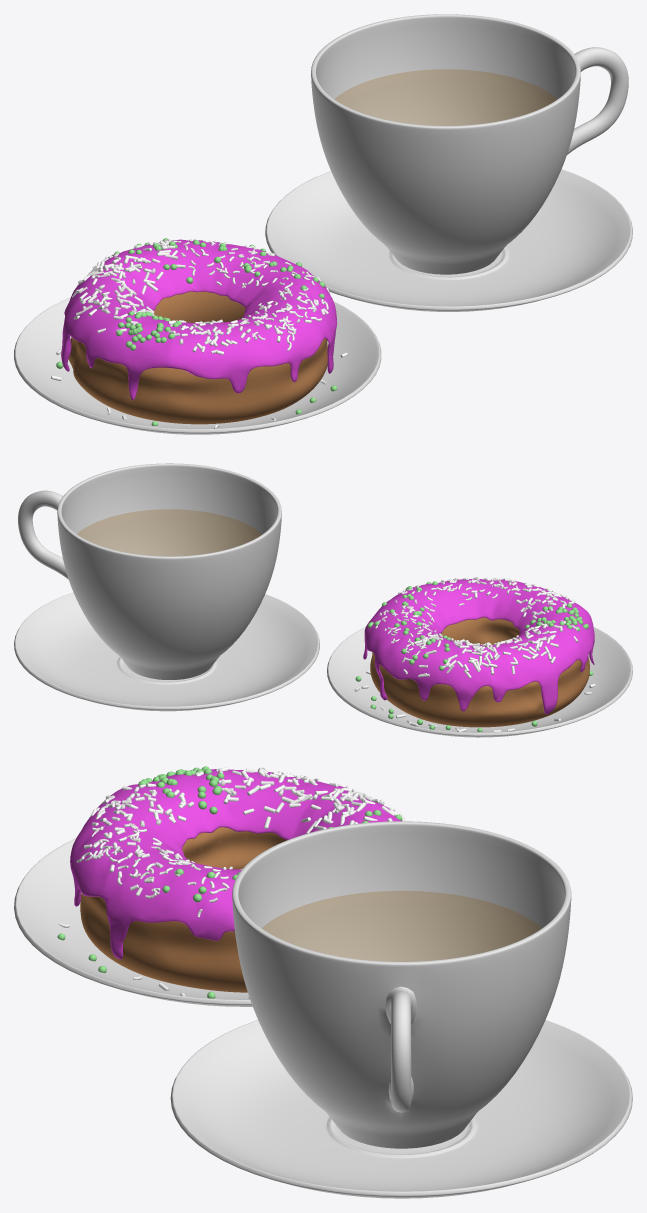
The model's file is donut_and_coffee.glb.
3 views of the same model, one above another, from view 1: azimuth 30°, elevation 25°; view 2: azimuth 150°, elevation 25°; view 3: azimuth 270°, elevation 25° (orthographic). The views are drawn at different scales.
Visible parts, largest first — view 1: Кружка, Тарелка, Torus.001, Torus, Тарелка.001, Кружка.001; view 2: Кружка, Тарелка, Torus.001, Тарелка.001, Torus, Кружка.001; view 3: Кружка, Тарелка, Torus.001, Кружка.001, Torus, Тарелка.001.
Boxes of the visible parts, x1,y1,x2,y2 form: Кружка: [311, 14, 628, 274]; Тарелка: [265, 169, 632, 311]; Torus.001: [61, 239, 337, 400]; Torus: [68, 291, 327, 424]; Тарелка.001: [14, 297, 381, 434]; Кружка.001: [335, 69, 556, 125]; Кружка: [18, 463, 281, 679]; Тарелка: [14, 592, 319, 711]; Torus.001: [363, 578, 594, 714]; Тарелка.001: [327, 626, 632, 737]; Torus: [370, 617, 589, 727]; Кружка.001: [77, 509, 261, 556]; Кружка: [232, 821, 571, 1148]; Тарелка: [170, 1020, 632, 1198]; Torus.001: [70, 769, 401, 959]; Кружка.001: [262, 891, 541, 961]; Torus: [80, 827, 287, 992]; Тарелка.001: [14, 838, 252, 1006].
Size of the model in its own units: 0.3036 by 0.0843 by 0.1988.
